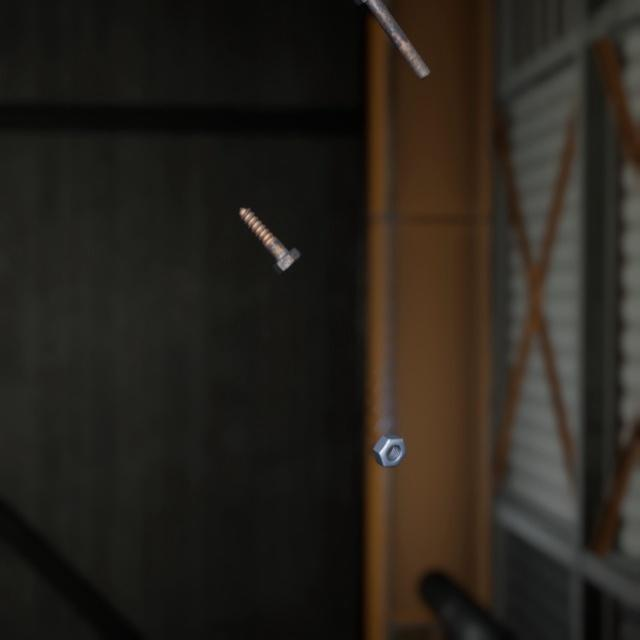bolt: (234, 186, 305, 262), (363, 0, 434, 76)
nut: (368, 410, 411, 451)
